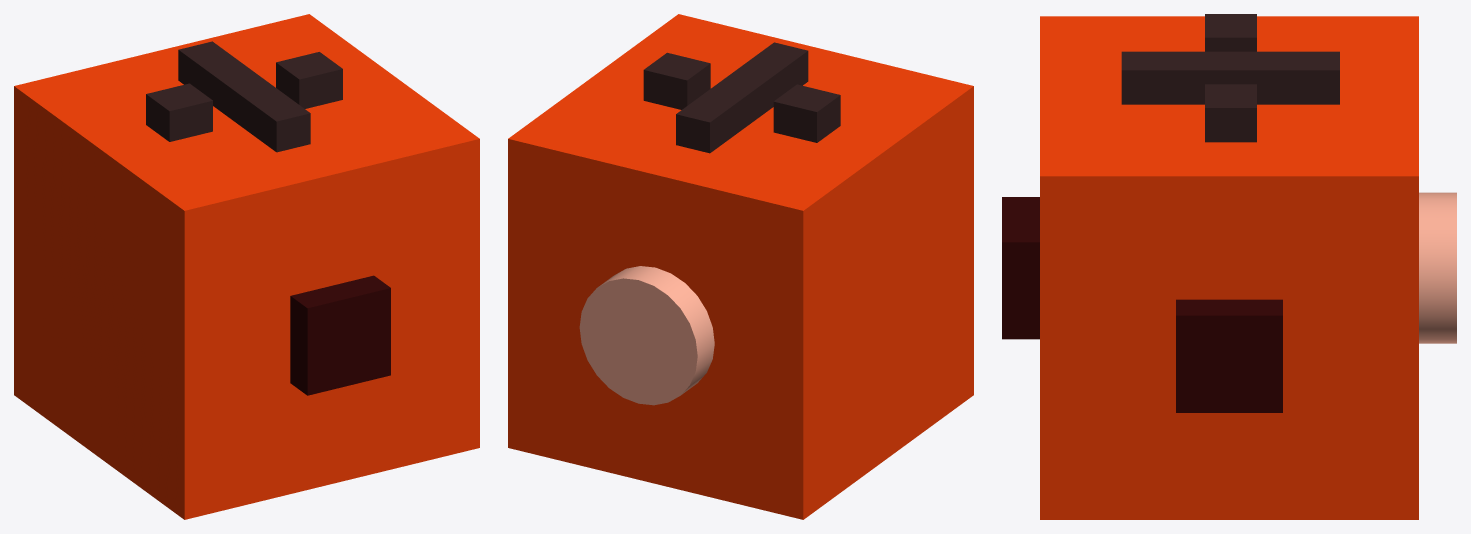
Rendered from Division_Operator.dae.
3 renders of one model, left to right at view 1: azimuth 30°, elevation 25°; view 2: azimuth 150°, elevation 25°; view 3: azimuth 270°, elevation 25°, orthographic. The views are drawn at different scales.
Parts seen in each view (by area): view 1: SketchUp (×2), instance_0; view 2: SketchUp (×2), instance_0; view 3: SketchUp (×4), instance_0.
Boxes of the visible parts, <box> form: SketchUp (×2): <box>14,14,479,519</box>; instance_0: <box>146,41,342,152</box>; SketchUp (×2): <box>508,14,973,519</box>; instance_0: <box>643,42,840,153</box>; SketchUp (×4): <box>1002,16,1456,519</box>; instance_0: <box>1121,14,1339,142</box>.
Bounding box in the file's own units: 43.31 × 47.24 × 43.31.
